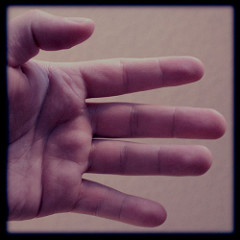palm: (5, 61, 114, 217)
